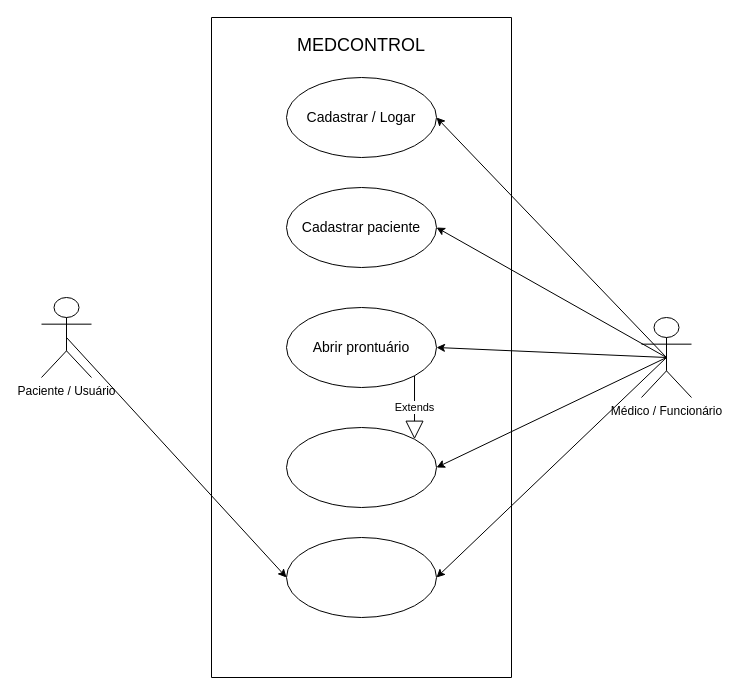
The diagram is 739 pixels wide and 695 high, and some of its shapes have lost their labels. The shapes that lost their labels are listed below. From the top down, each one's box as (x1, y1, x2, y2) in pixels, then its label:
(286, 426, 436, 508): Acessar prontuários gerais
(286, 536, 436, 618): Visualizar gráficos e índices
